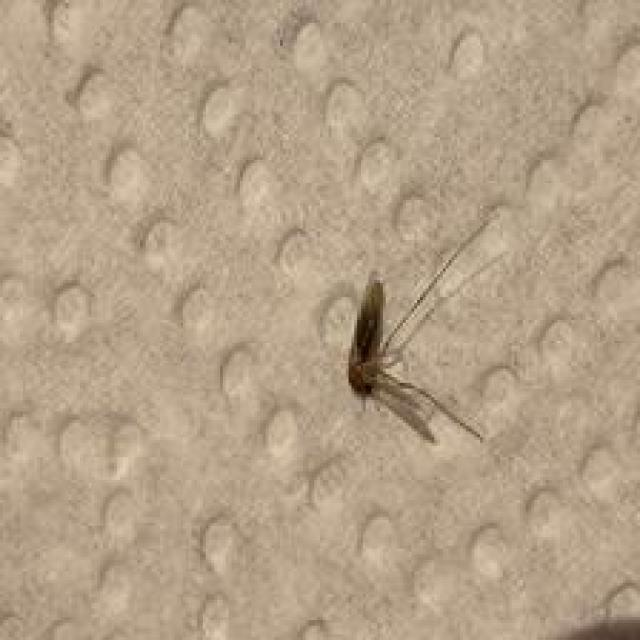Culex: (344, 204, 507, 447)
